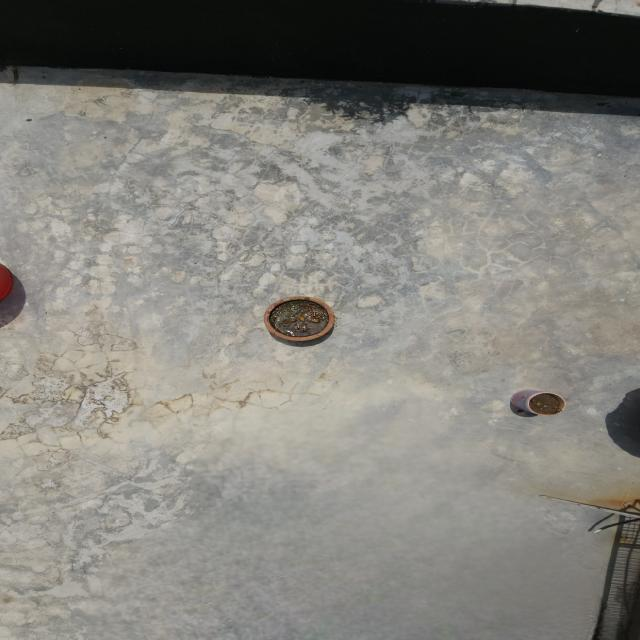Breeding Place: (251, 286, 344, 350), (503, 378, 574, 425)
